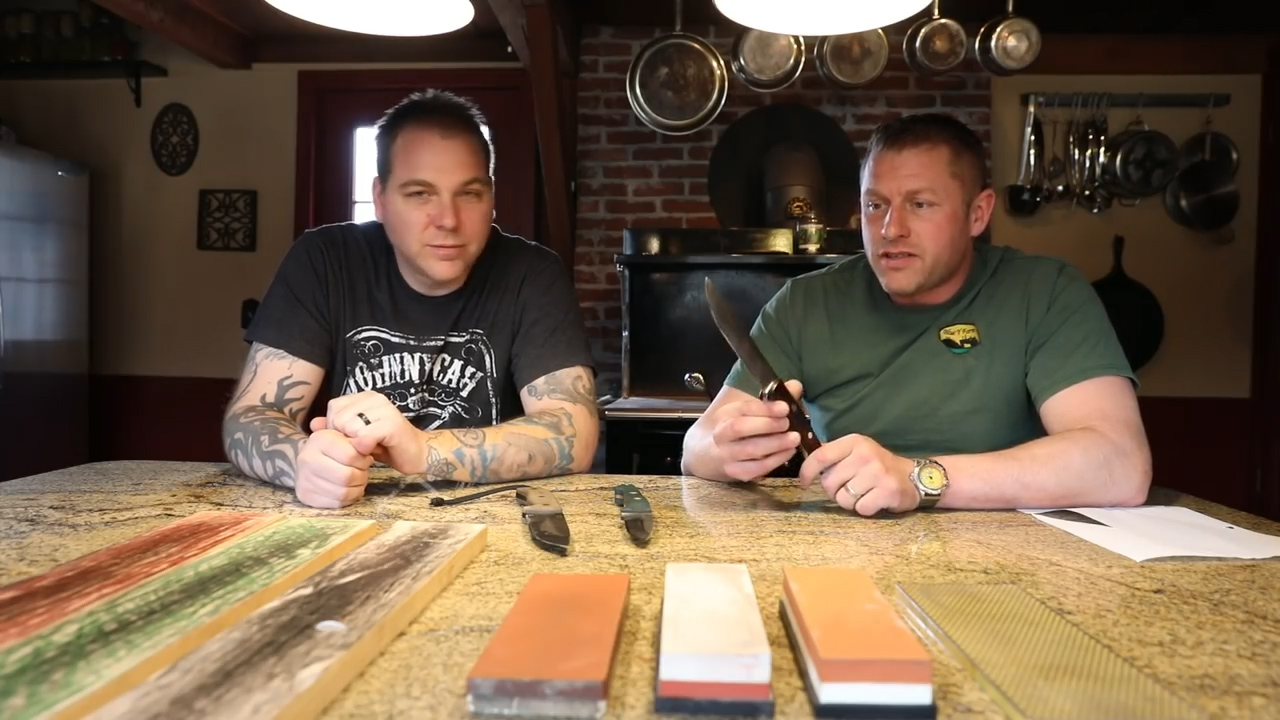knife: (686, 251, 839, 463)
